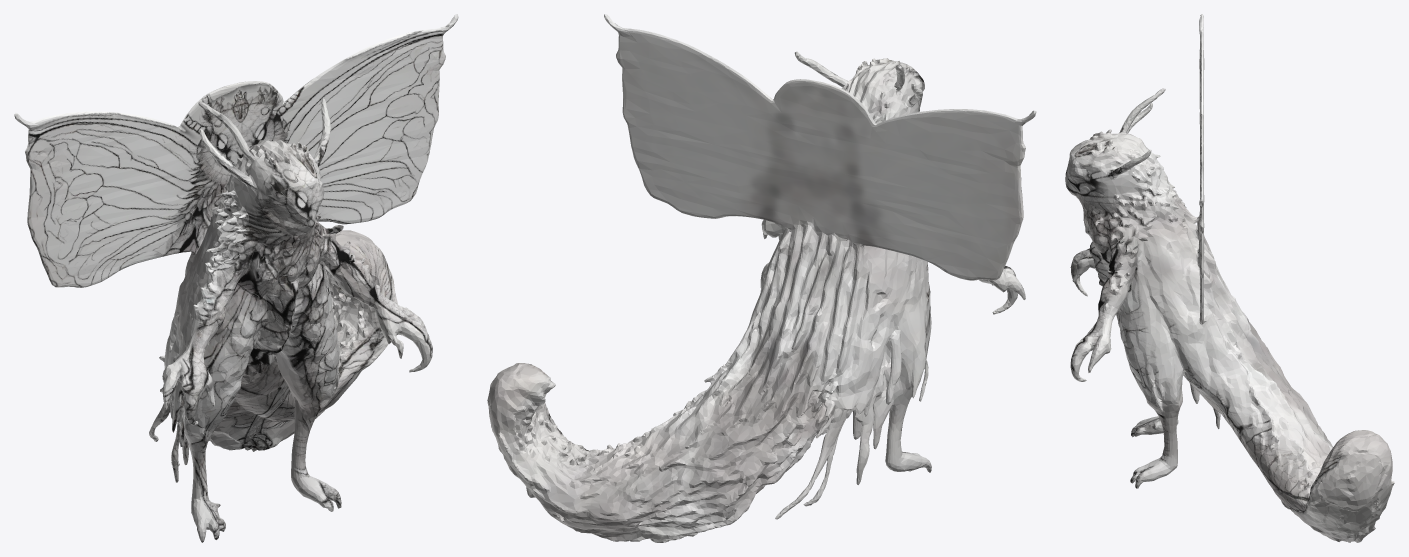
Rendered from the_moth_matron_local.glb.
3 views of the same model, side by side, from view 1: azimuth 30°, elevation 25°; view 2: azimuth 150°, elevation 25°; view 3: azimuth 270°, elevation 25° (orthographic). The views are drawn at different scales.
Parts seen in each view (by area): view 1: geometry_0; view 2: geometry_0; view 3: geometry_0.
Part boxes in pixels (x1,y1,x2,y2): geometry_0: (14,14,458,542); geometry_0: (487,14,1036,542); geometry_0: (1065,14,1394,542).
Bounding box in the file's own units: 3.33 × 3.2 × 2.48.
Materials: 1 (1 with a texture image).
